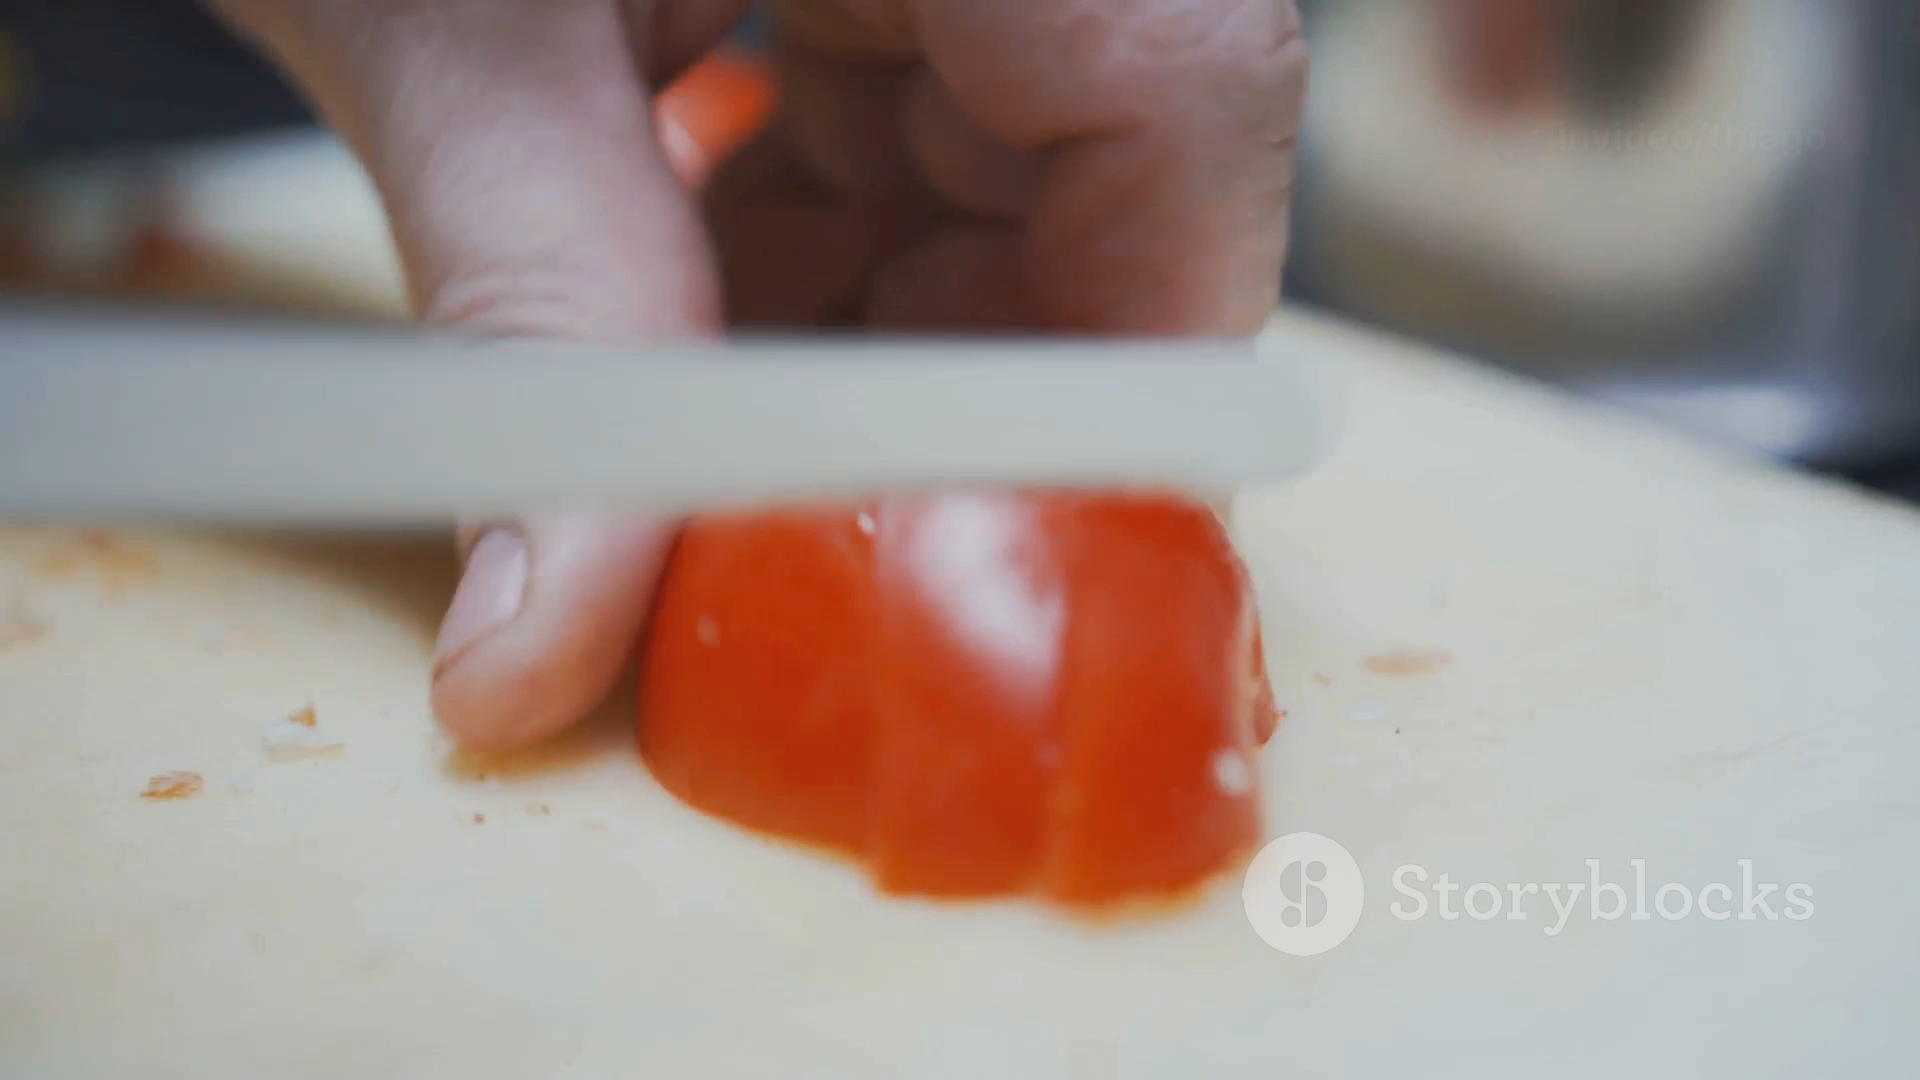cortante: (0, 297, 1357, 524)
